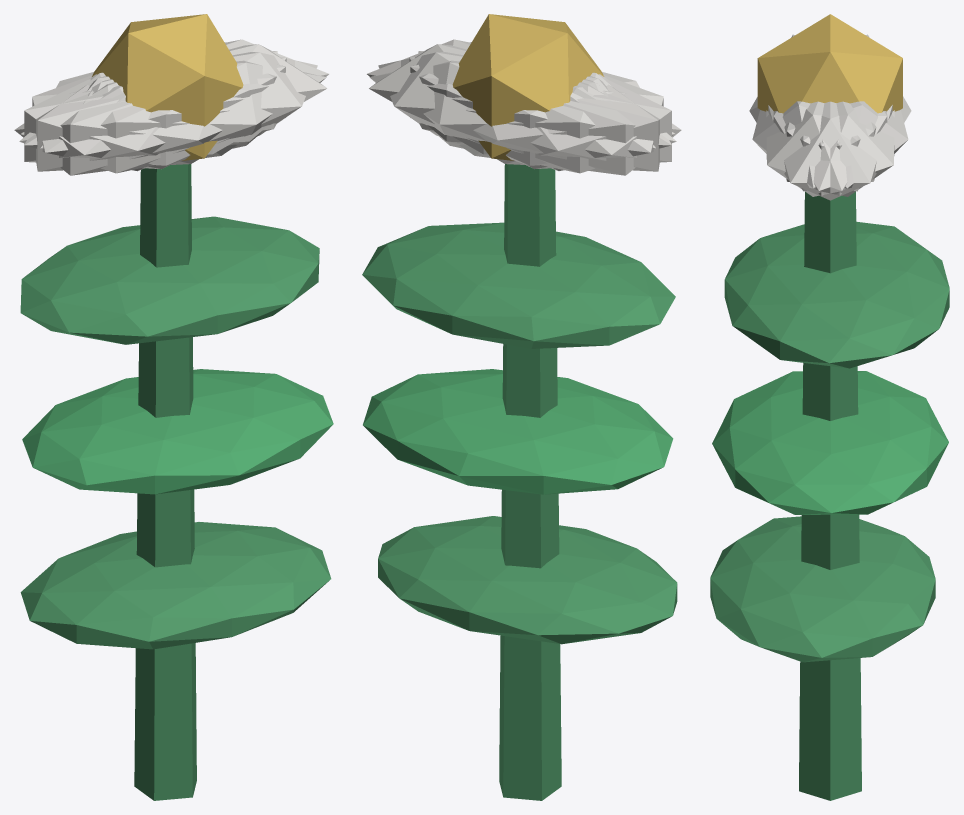
Rendered from cotoneaster-dammeri.glb.
3 renders of one model, left to right at view 1: azimuth 30°, elevation 25°; view 2: azimuth 150°, elevation 25°; view 3: azimuth 270°, elevation 25°, orthographic.
Visible parts, largest first — view 1: leaf0, leaf1, leaf2, stem, center, petal1, petal6, petal2, petal5, petal7, petal0, petal4 (+2 smaller); view 2: leaf2, leaf1, leaf0, stem, center, petal8, petal3, petal7, petal4, petal2, petal0, petal5 (+2 smaller); view 3: leaf1, leaf2, leaf0, stem, center, petal0, petal4, petal5, petal8, petal1.
Part boxes in pixels (<box>): leaf0: <box>20,522,331,649</box>; leaf1: <box>22,369,333,494</box>; leaf2: <box>20,216,319,344</box>; stem: <box>134,164,196,800</box>; center: <box>92,14,243,160</box>; petal1: <box>19,60,326,173</box>; petal6: <box>14,74,236,175</box>; petal2: <box>36,51,277,171</box>; petal5: <box>40,52,317,165</box>; petal7: <box>24,57,286,169</box>; petal0: <box>91,44,327,154</box>; petal4: <box>20,39,328,145</box>; leaf2: <box>362,222,675,348</box>; leaf1: <box>363,369,673,494</box>; leaf0: <box>378,516,677,644</box>; stem: <box>499,164,561,800</box>; center: <box>452,14,604,160</box>; petal8: <box>369,60,676,173</box>; petal3: <box>459,74,681,175</box>; petal7: <box>418,51,659,171</box>; petal4: <box>378,52,655,165</box>; petal2: <box>409,57,671,169</box>; petal0: <box>369,44,604,154</box>; petal5: <box>367,39,675,145</box>; leaf1: <box>712,371,948,514</box>; leaf2: <box>724,221,949,368</box>; leaf0: <box>710,516,935,662</box>; stem: <box>799,191,861,800</box>; center: <box>757,14,902,113</box>; petal0: <box>768,101,892,200</box>; petal4: <box>773,101,894,196</box>; petal5: <box>766,101,887,196</box>; petal8: <box>784,101,908,188</box>; petal1: <box>752,101,876,188</box>.
Bounding box in the file's own units: 0.1452 × 0.3508 × 0.101.
